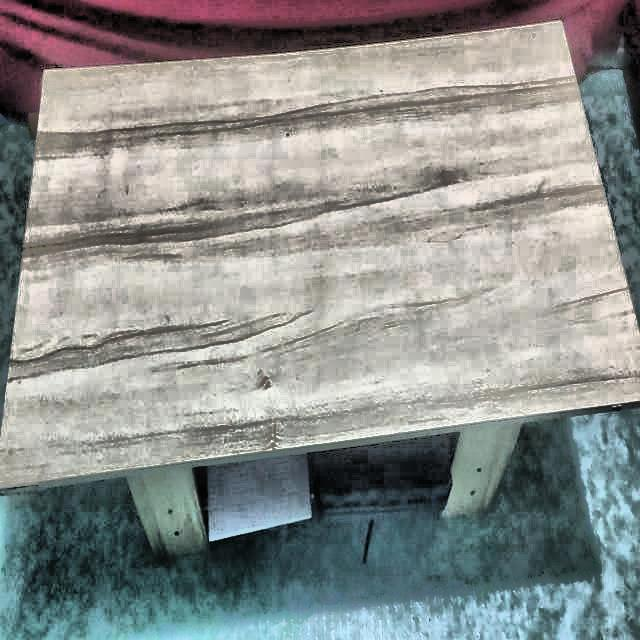mesa: (0, 14, 640, 582)
